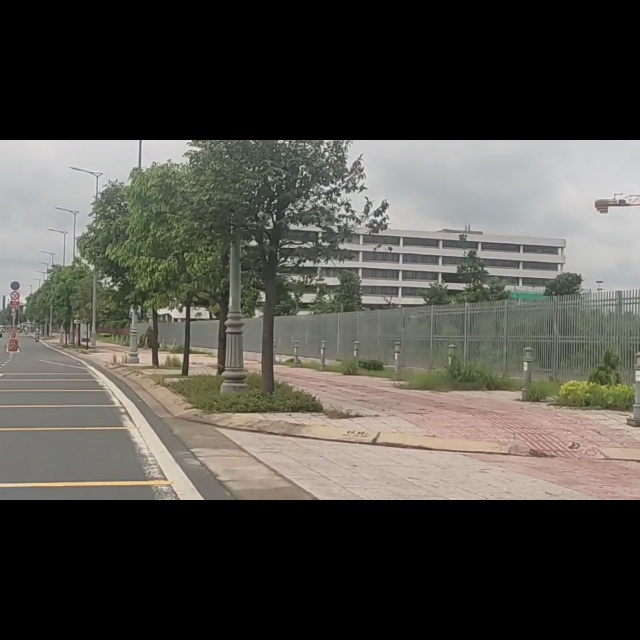bien_cam: (9, 250, 21, 267), (9, 269, 20, 286)
